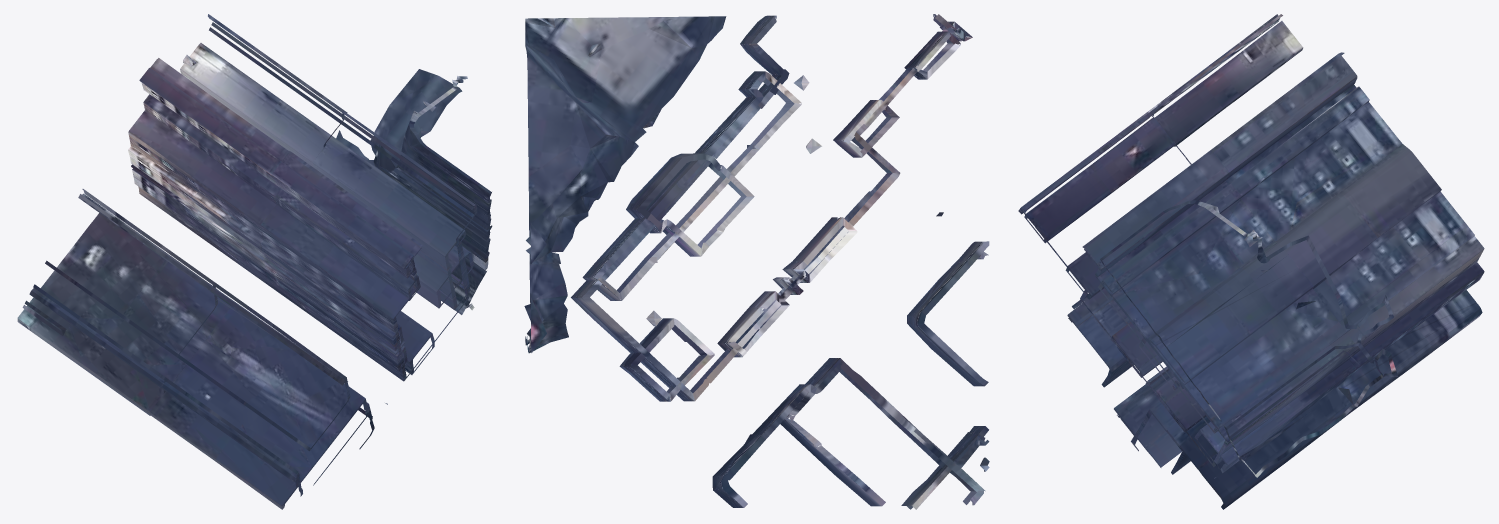
3 renders of one model, left to right at view 1: azimuth 30°, elevation 25°; view 2: azimuth 150°, elevation 25°; view 3: azimuth 270°, elevation 25°, orthographic. The views are drawn at different scales.
Bounding box in the file's own units: 49.75 × 50.35 × 51.26.
Materials: 3 (3 with a texture image).
